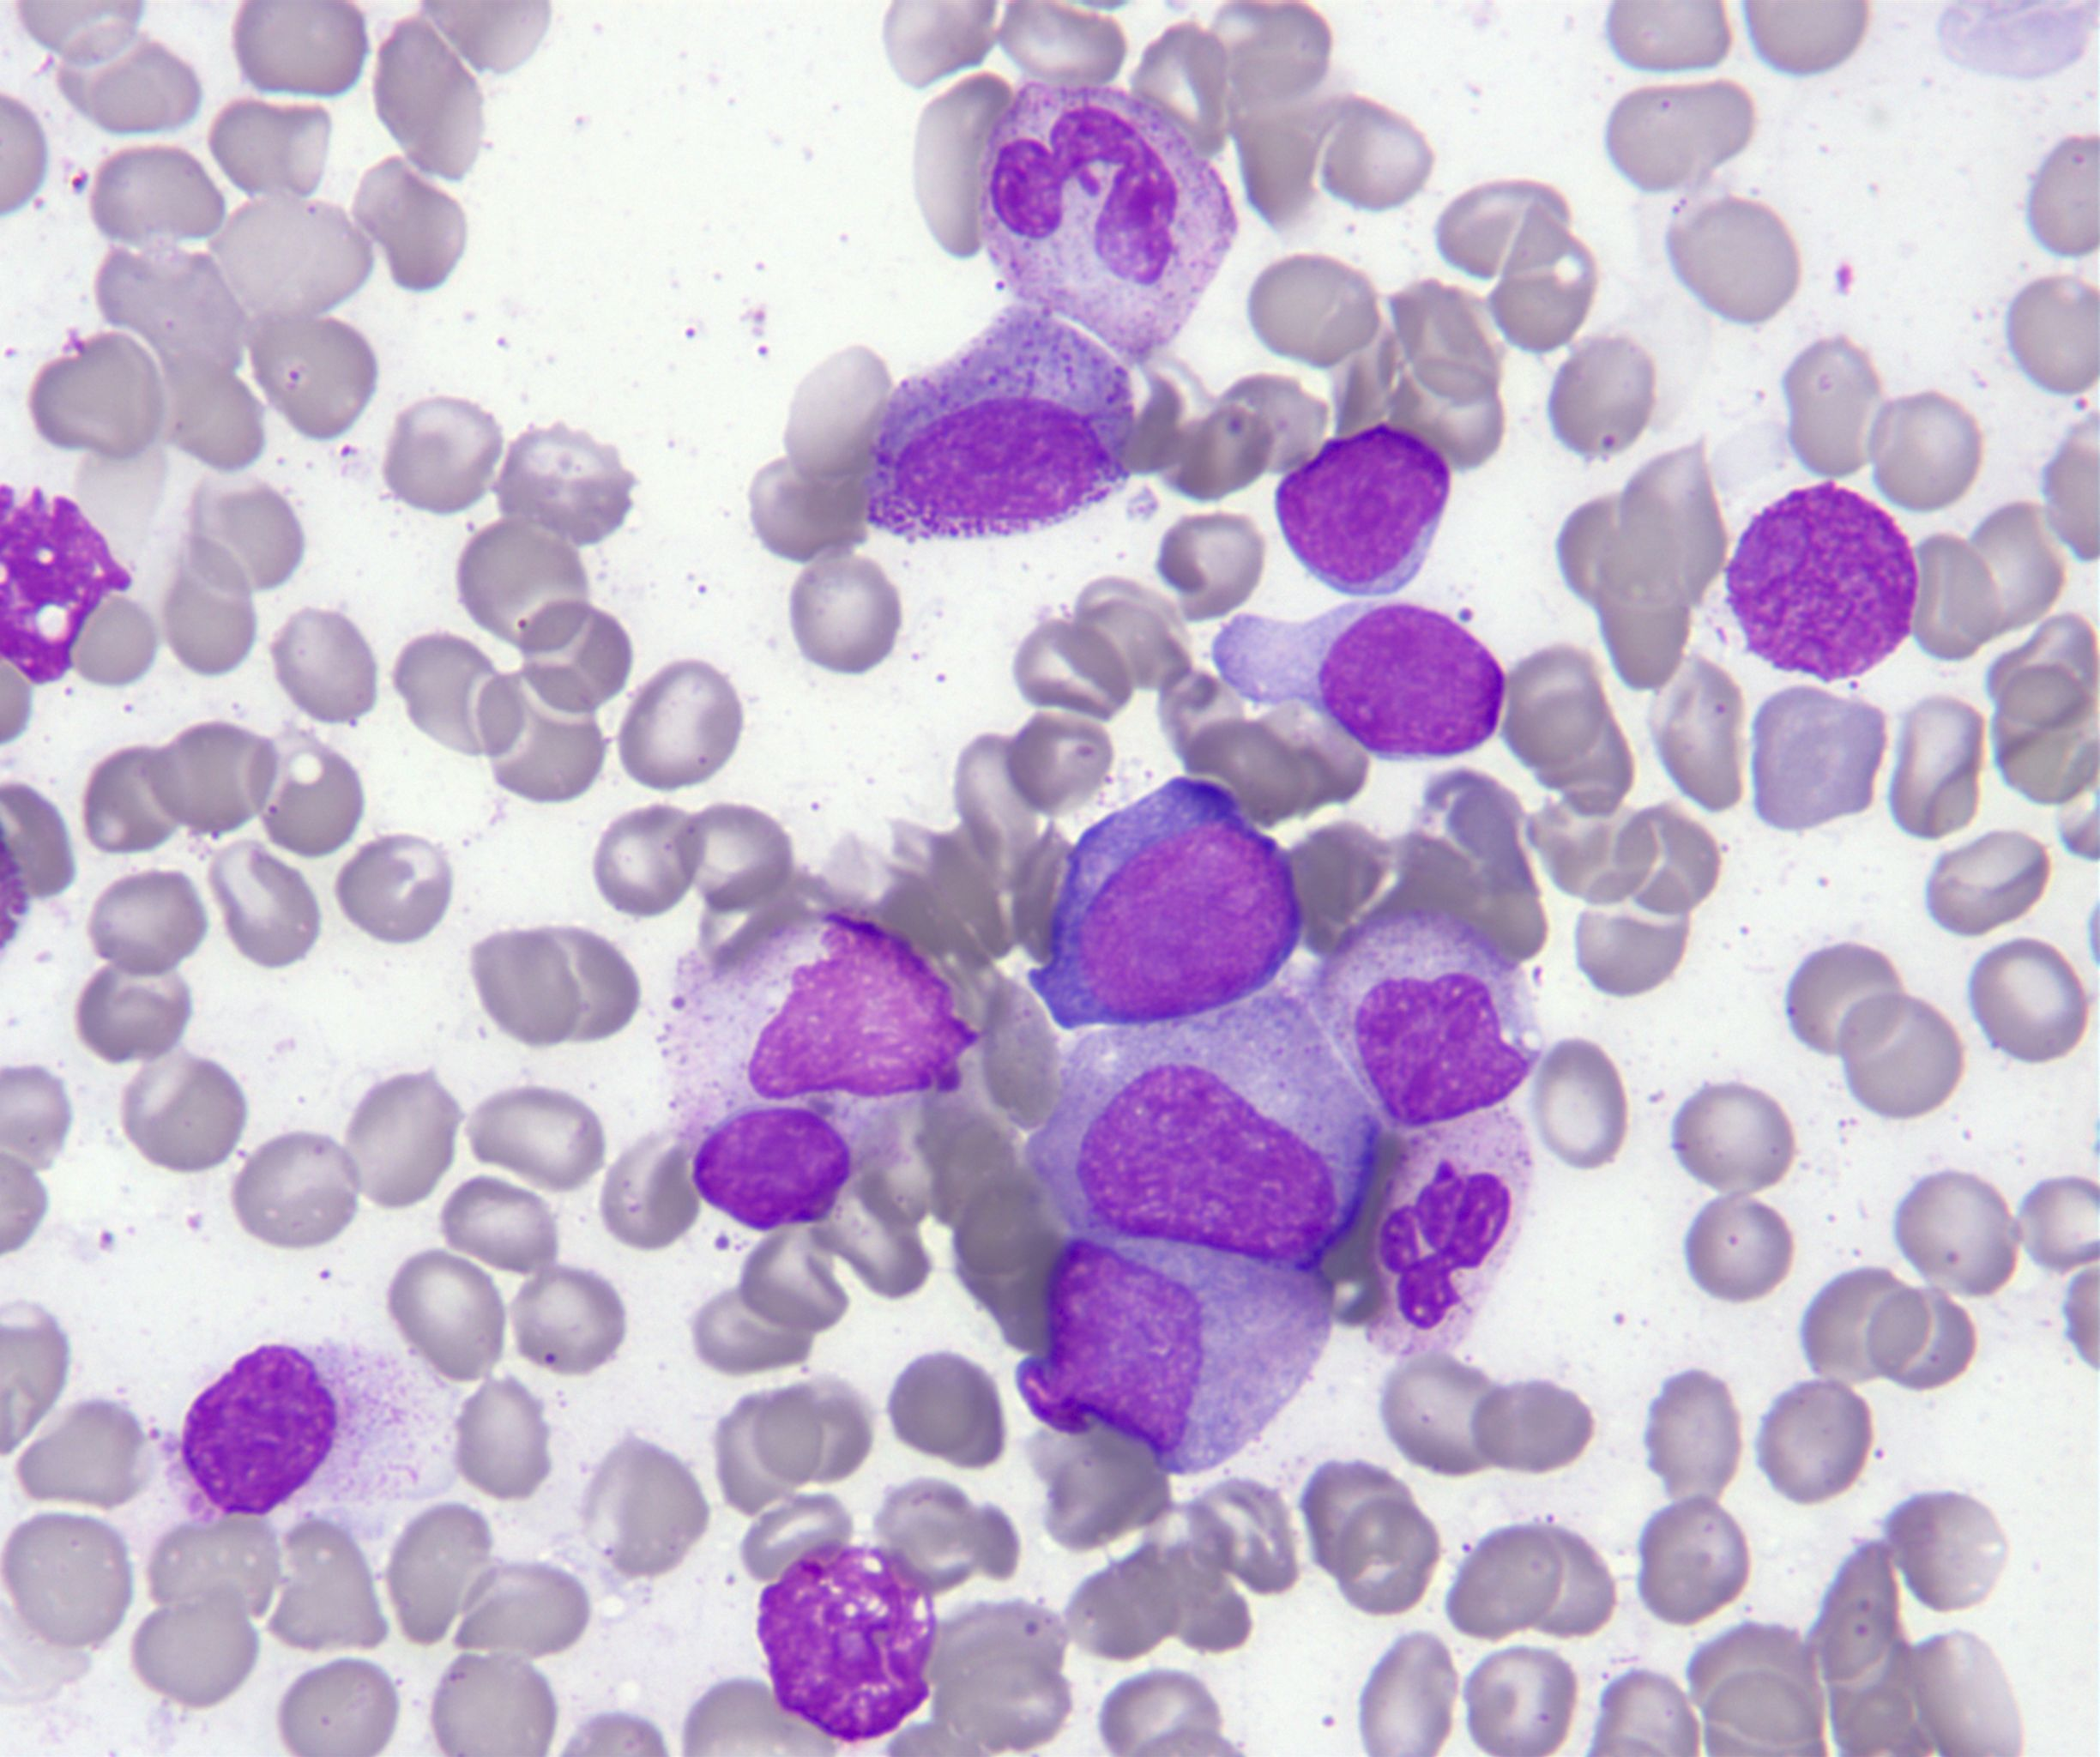1: (1031, 778, 1301, 1029)
3: (1026, 986, 1380, 1272), (1017, 1237, 1336, 1474), (867, 305, 1134, 541), (1306, 913, 1538, 1131)
32: (1212, 602, 1505, 761), (1275, 422, 1453, 598), (689, 1094, 900, 1234)
5: (978, 82, 1238, 366)
6: (1366, 1106, 1531, 1357)
x: (659, 913, 980, 1129), (159, 1342, 455, 1518), (1727, 483, 1919, 684), (759, 1541, 935, 1743), (0, 485, 131, 686)
